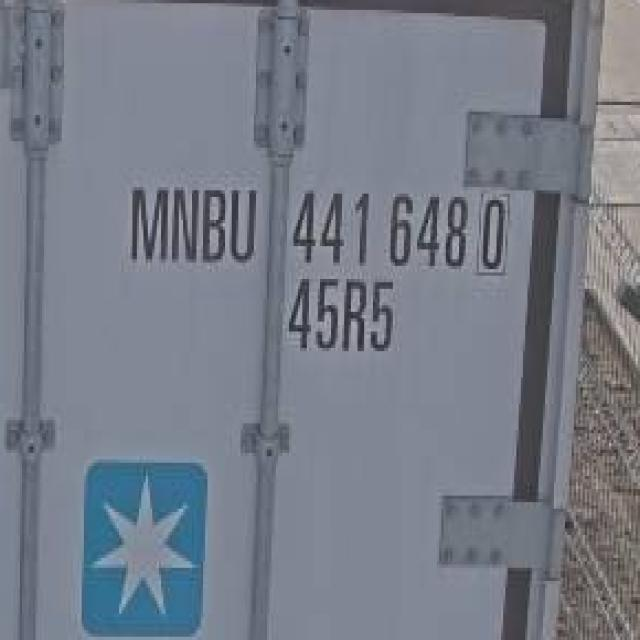dv: (476, 182, 515, 279)
owner: (123, 179, 263, 276)
serial: (290, 181, 472, 274)
size: (286, 274, 402, 359)
